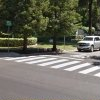crosswalk: (6, 55, 100, 78)
